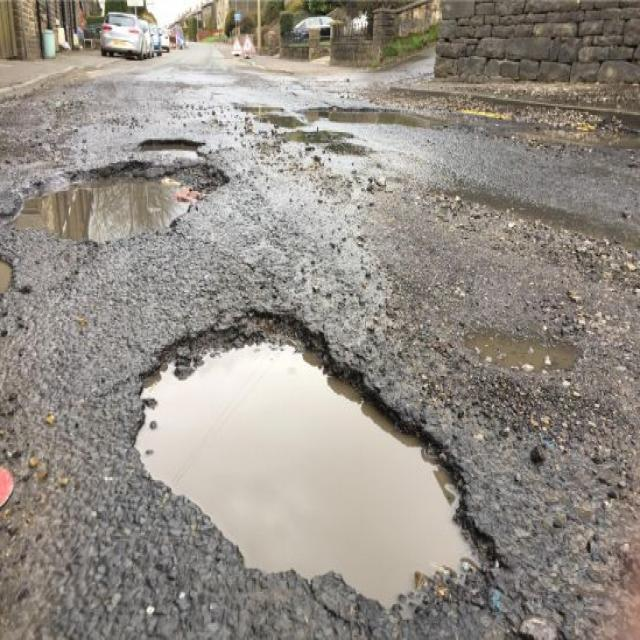Pothole: (133, 296, 508, 607), (10, 152, 232, 252), (138, 133, 216, 166)
